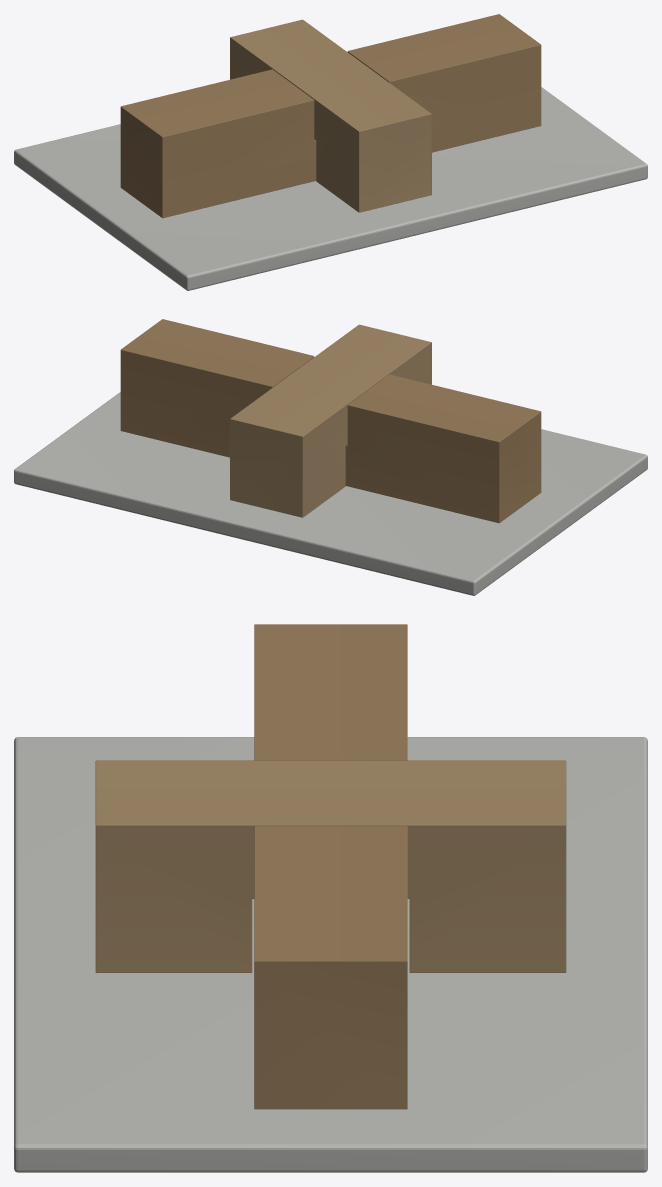
Rendered from nativity-joinery.glb.
3 renders of one model, top to bottom at view 1: azimuth 30°, elevation 25°; view 2: azimuth 150°, elevation 25°; view 3: azimuth 270°, elevation 25°, orthographic. The views are drawn at different scales.
Visible parts, largest first — view 1: nativity-joinery-nativity-modern-neutral-display-base, nativity-joinery-nativity-original-selected-wood, nativity-joinery-nativity-original-selected-cross-grain-wood; view 2: nativity-joinery-nativity-modern-neutral-display-base, nativity-joinery-nativity-original-selected-wood, nativity-joinery-nativity-original-selected-cross-grain-wood; view 3: nativity-joinery-nativity-modern-neutral-display-base, nativity-joinery-nativity-original-selected-cross-grain-wood, nativity-joinery-nativity-original-selected-wood.
Part boxes in pixels (box(x1,y1,x2,y2)): nativity-joinery-nativity-modern-neutral-display-base: box(14, 87, 647, 290); nativity-joinery-nativity-original-selected-wood: box(120, 14, 541, 218); nativity-joinery-nativity-original-selected-cross-grain-wood: box(230, 19, 431, 212); nativity-joinery-nativity-modern-neutral-display-base: box(14, 392, 647, 595); nativity-joinery-nativity-original-selected-wood: box(120, 319, 541, 523); nativity-joinery-nativity-original-selected-cross-grain-wood: box(230, 324, 431, 517); nativity-joinery-nativity-modern-neutral-display-base: box(14, 737, 647, 1172); nativity-joinery-nativity-original-selected-cross-grain-wood: box(95, 760, 566, 972); nativity-joinery-nativity-original-selected-wood: box(254, 624, 407, 1109).
Size of the model in its own units: 0.95 by 0.19 by 0.62.
